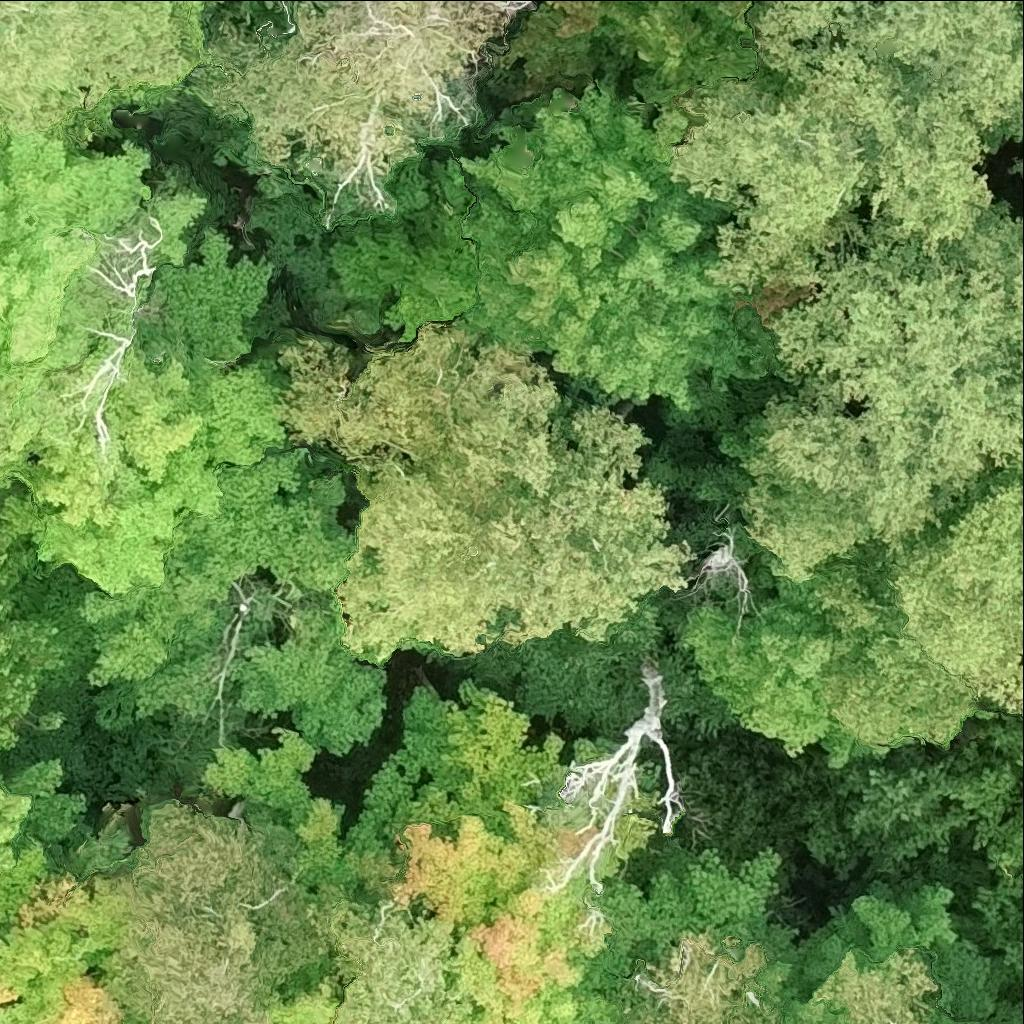crown: (0, 109, 300, 595), (333, 84, 769, 407), (284, 323, 689, 661), (671, 0, 1023, 300), (81, 448, 387, 789), (723, 376, 982, 749), (774, 196, 1023, 555), (206, 681, 571, 891), (218, 0, 519, 213), (96, 800, 328, 1023), (680, 548, 895, 768), (575, 839, 805, 1023), (456, 811, 651, 1023), (782, 885, 1023, 1023), (893, 484, 1023, 718), (306, 853, 477, 1023), (0, 468, 97, 753), (379, 801, 570, 943), (0, 0, 199, 132), (0, 843, 144, 1023), (560, 664, 672, 892), (552, 0, 759, 112), (807, 757, 986, 879), (954, 695, 1023, 987), (0, 758, 138, 878), (269, 950, 349, 1023), (189, 0, 219, 64), (0, 373, 19, 464), (1012, 0, 1023, 52), (1017, 110, 1023, 117)
